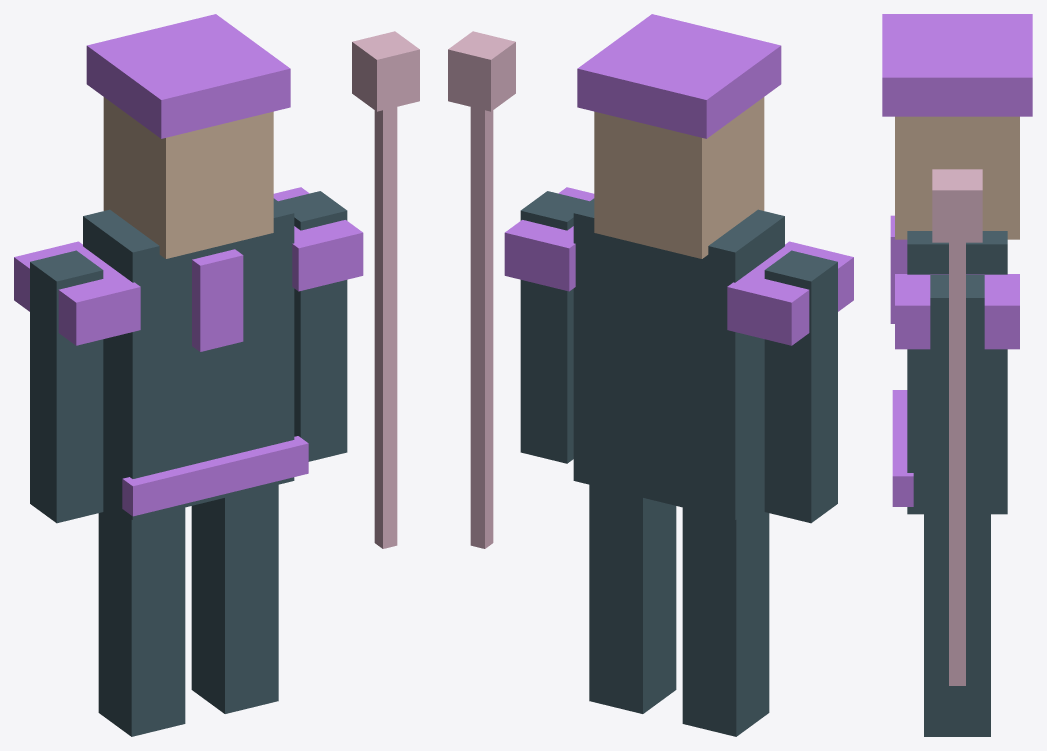
The model's file is 16_auren_voxmere_captain_at_deep.glb.
3 views of the same model, side by side, from view 1: azimuth 30°, elevation 25°; view 2: azimuth 150°, elevation 25°; view 3: azimuth 270°, elevation 25° (orthographic).
Parts seen in each view (by area): view 1: Auren Voxmere, Captain at Deep; view 2: Auren Voxmere, Captain at Deep; view 3: Auren Voxmere, Captain at Deep.
Part boxes in pixels (left/top/right/bottom): Auren Voxmere, Captain at Deep: left=14, top=14, right=419, bottom=736; Auren Voxmere, Captain at Deep: left=448, top=14, right=853, bottom=736; Auren Voxmere, Captain at Deep: left=882, top=14, right=1032, bottom=736.
Bounding box in the file's own units: 0.9362 × 1.6 × 0.3321.
